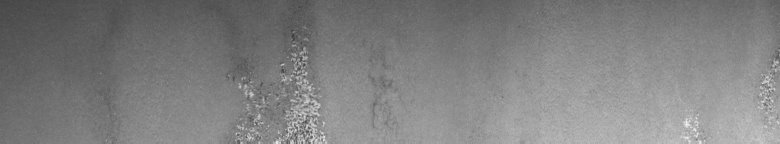hc: (224, 20, 398, 136)
